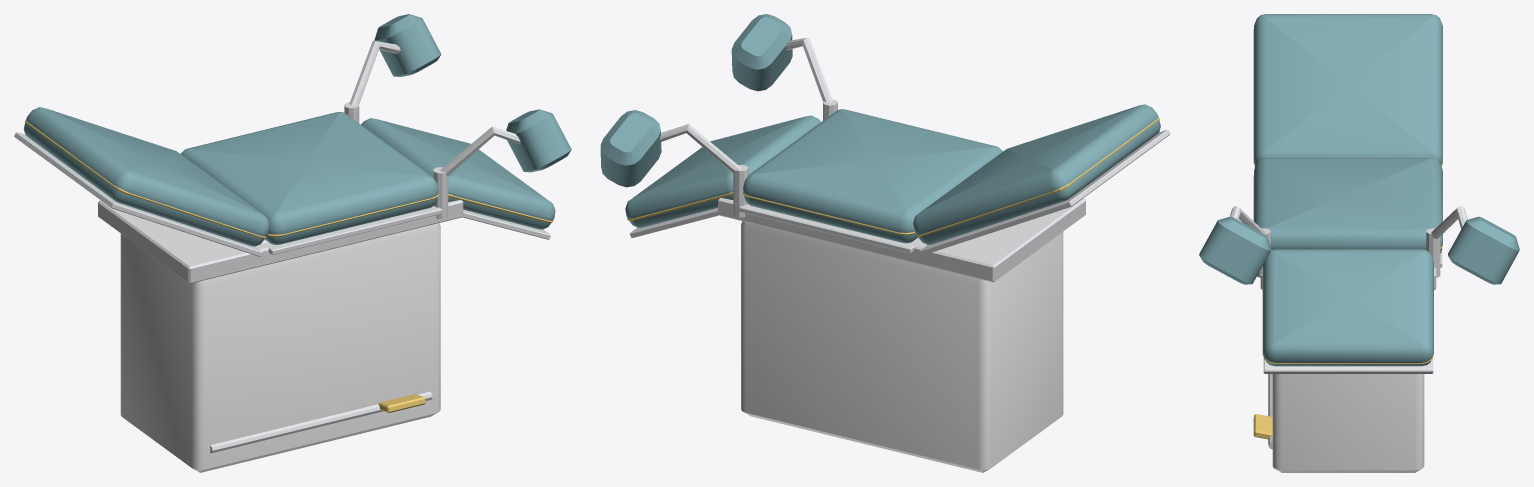
Rendered from clinic-and-veterinary-practice-minor-procedures-couch-5927ed1f__16766.glb.
3 views of the same model, side by side, from view 1: azimuth 30°, elevation 25°; view 2: azimuth 150°, elevation 25°; view 3: azimuth 270°, elevation 25° (orthographic). The views are drawn at different scales.
Parts seen in each view (by area): view 1: minor-procedures-couch; view 2: minor-procedures-couch; view 3: minor-procedures-couch.
Boxes of the visible parts, x1,y1,x2,y2 form: minor-procedures-couch: [14, 14, 571, 472]; minor-procedures-couch: [600, 14, 1170, 472]; minor-procedures-couch: [1199, 14, 1519, 472].
Bounding box in the file's own units: 1.64 × 1.14 × 1.06.
